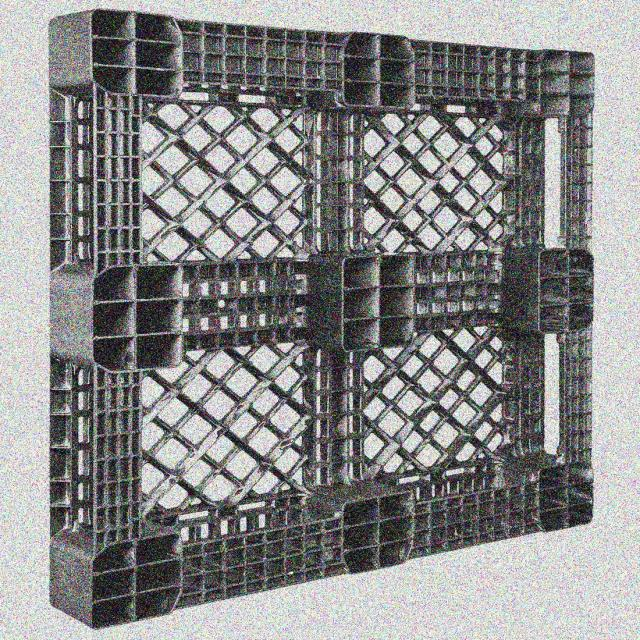non-igps: (40, 4, 602, 635)
